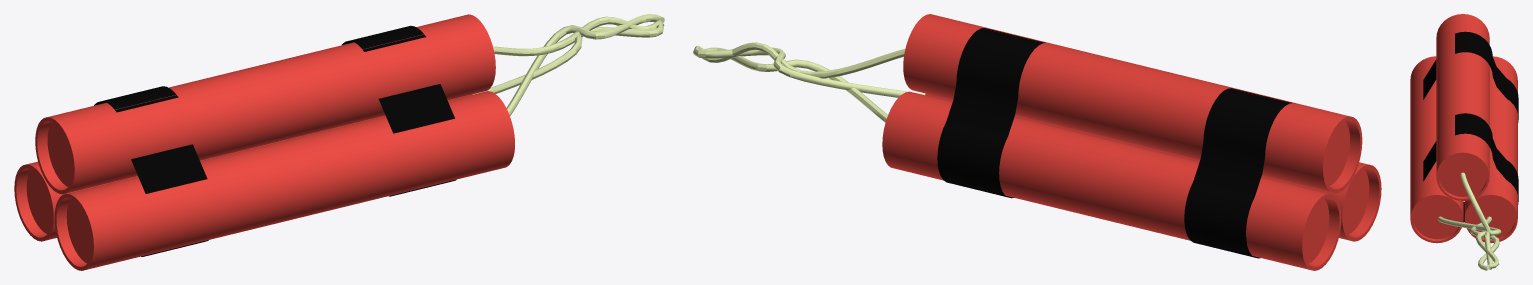
Rendered from TNT.fbx.
The picture shows the model from 3 angles, left to right: view 1: azimuth 30°, elevation 25°; view 2: azimuth 150°, elevation 25°; view 3: azimuth 270°, elevation 25°; orthographic projection. The views are drawn at different scales.
Visible parts, largest first — view 1: Tnt; view 2: Tnt; view 3: Tnt.
Boxes of the visible parts, x1,y1,x2,y2 form: Tnt: [14, 14, 664, 270]; Tnt: [693, 14, 1381, 270]; Tnt: [1410, 14, 1518, 270].
Size of the model in its own units: 1841 by 385 by 406.
